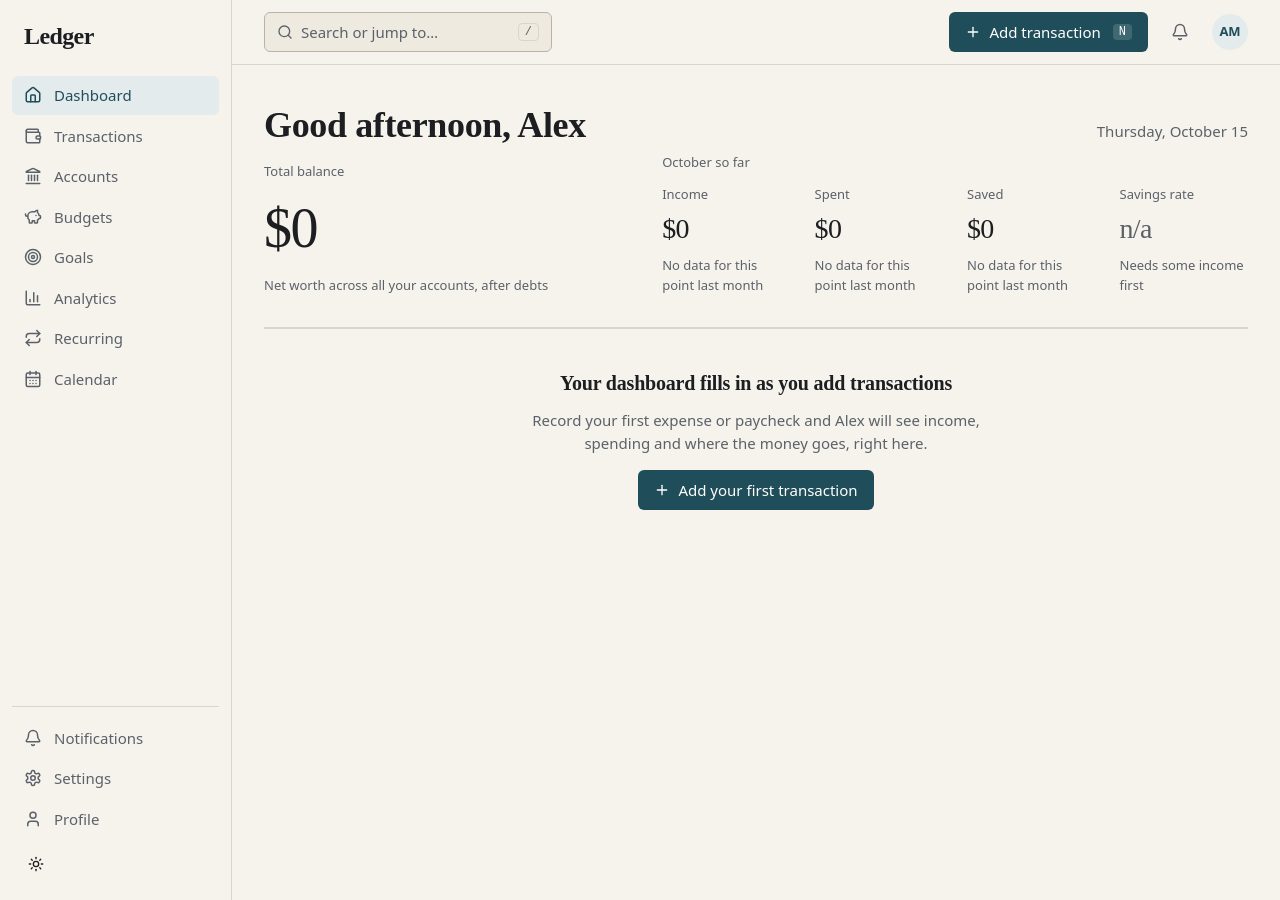
global search › opens the full, filtered list from "see all"
The width and height of the screenshot is (1280, 900).
Expected: the element that starts with "Good afternoon, Alex" is shown, x1=232 y1=65 x2=1279 y2=614
Type keys "/"
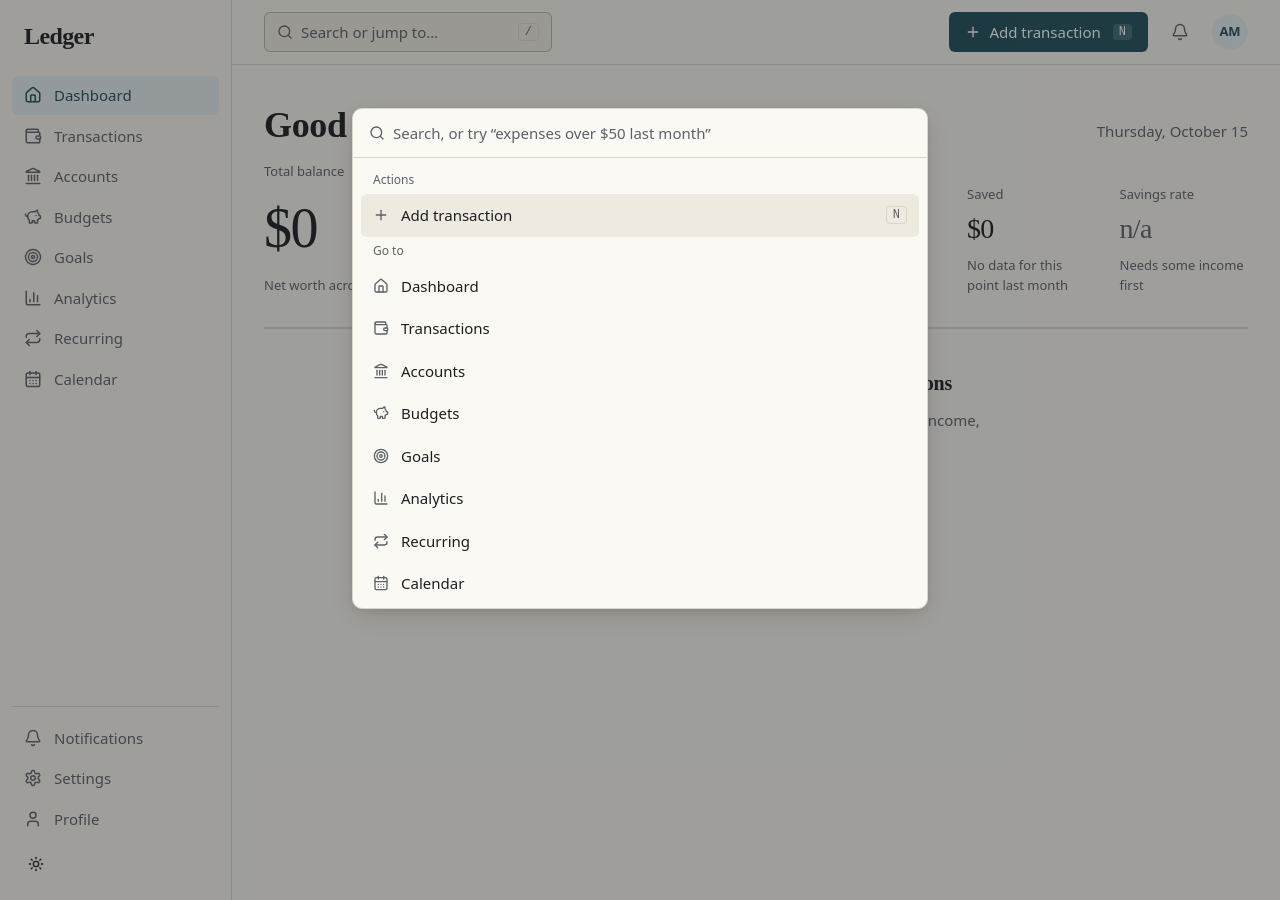
In the dropdown: [652, 133] box x1=393 y1=109 x2=911 y2=157, type "expenses over $50"
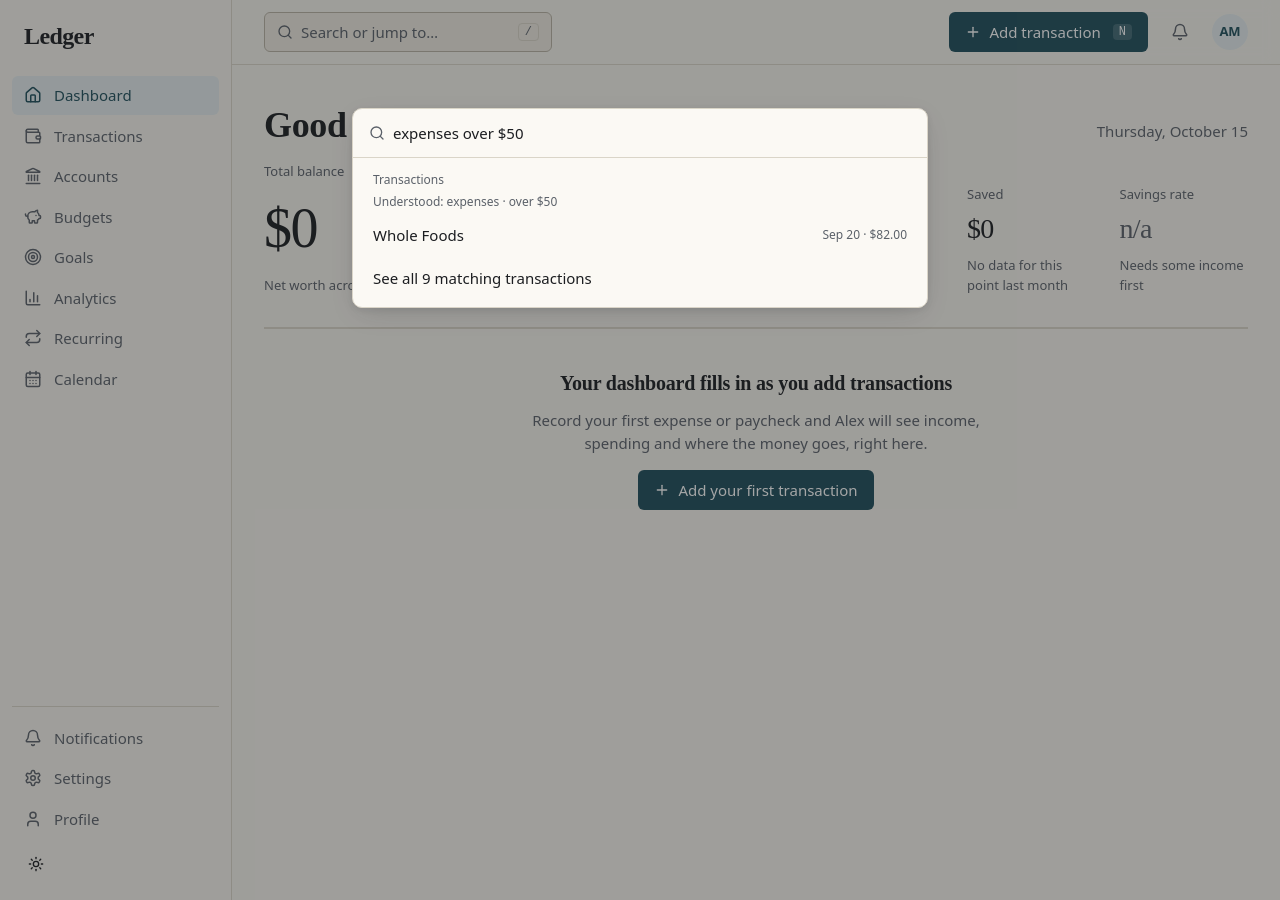
Click the option "See all 9 matching transactions": [482, 278] box x1=373 y1=268 x2=592 y2=288
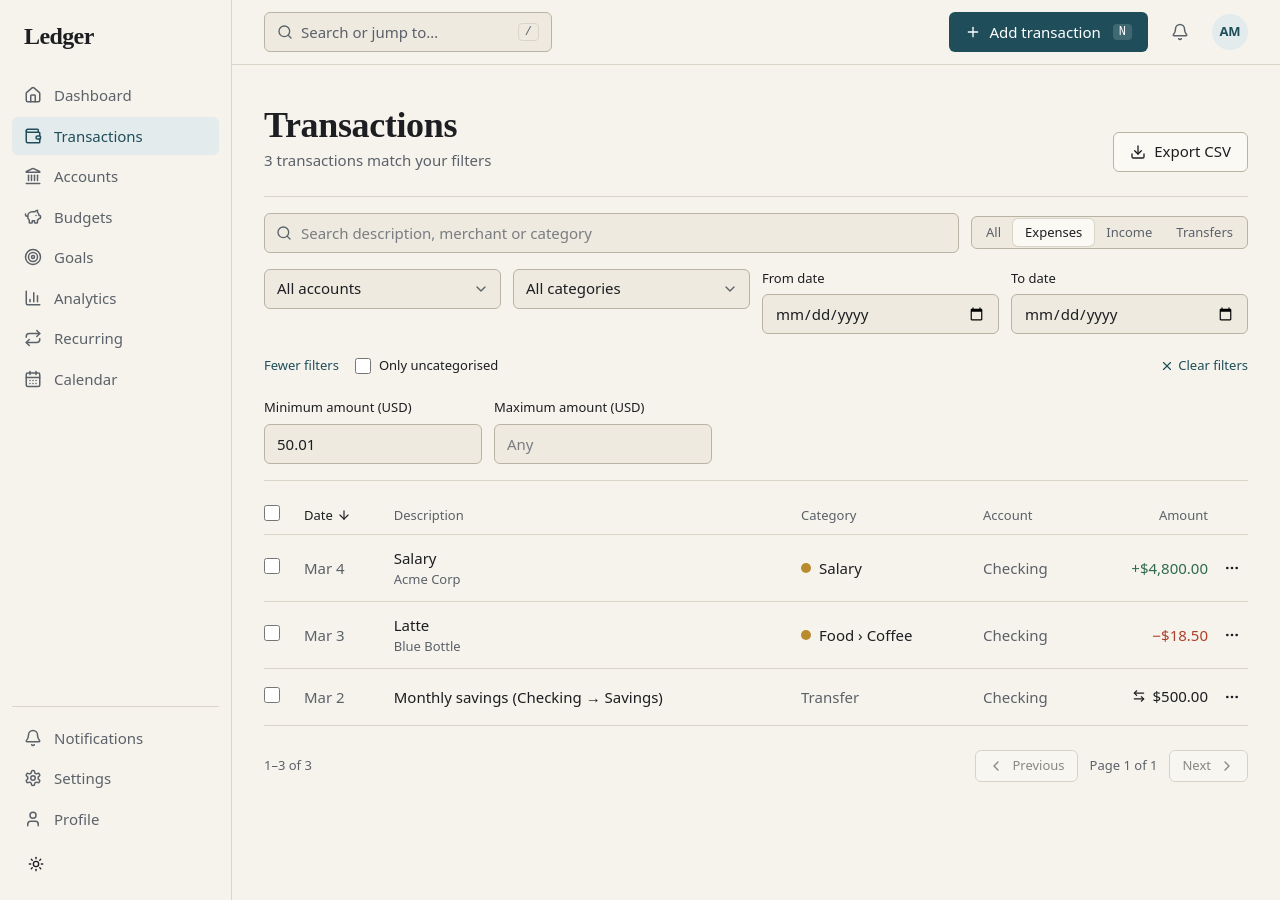
Expected: the heading "Transactions" is shown, x1=264 y1=105 x2=457 y2=145
